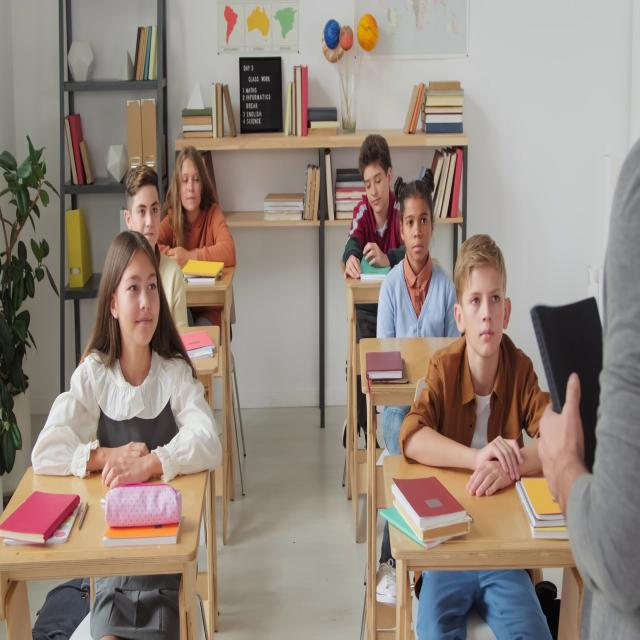listening: (397, 243, 562, 636), (32, 235, 224, 476), (160, 144, 237, 336), (374, 176, 458, 347), (126, 165, 191, 326)
reading: (342, 134, 406, 284)
